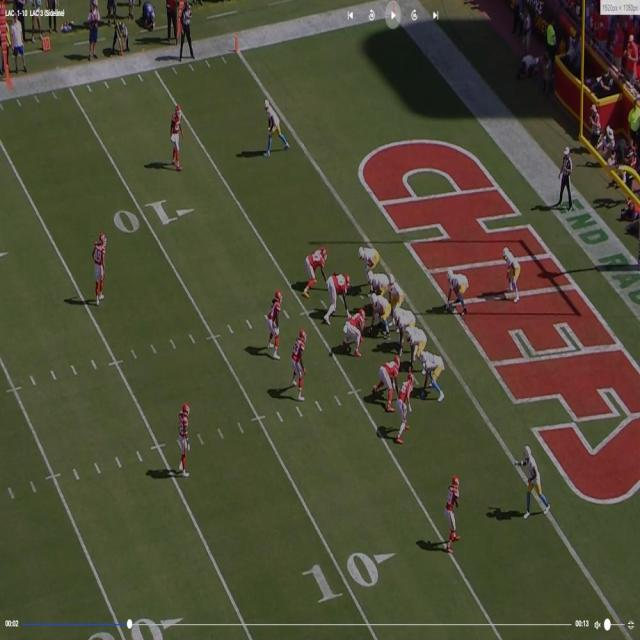center: (372, 292, 390, 330)
db: (446, 475, 459, 548), (96, 234, 109, 305), (172, 103, 185, 165), (181, 398, 191, 478)
lb: (397, 375, 414, 440), (294, 330, 308, 400), (268, 291, 282, 354)
qb: (387, 274, 404, 305)
skill: (522, 446, 548, 515), (422, 353, 445, 398), (446, 268, 469, 312), (263, 98, 280, 155), (503, 248, 517, 299)
